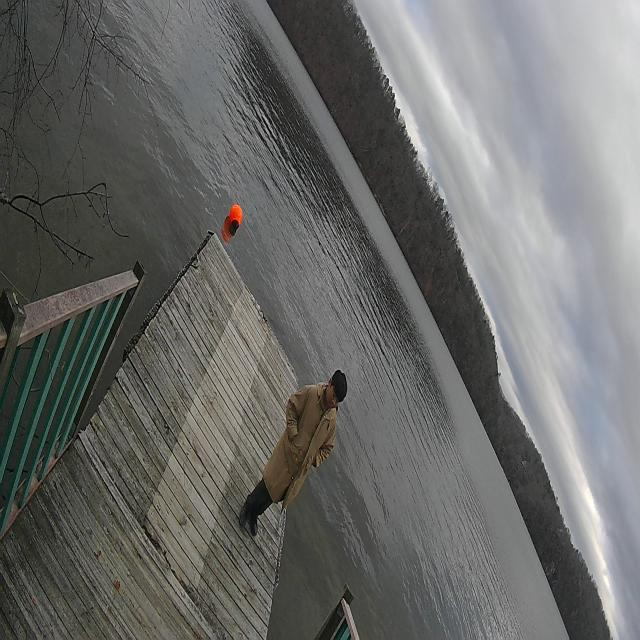Buoy: (226, 199, 245, 238)
